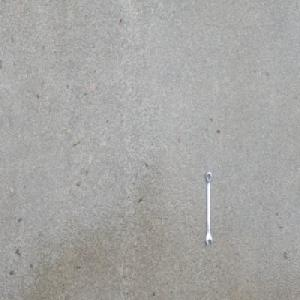Wrench: (205, 169, 213, 247)
